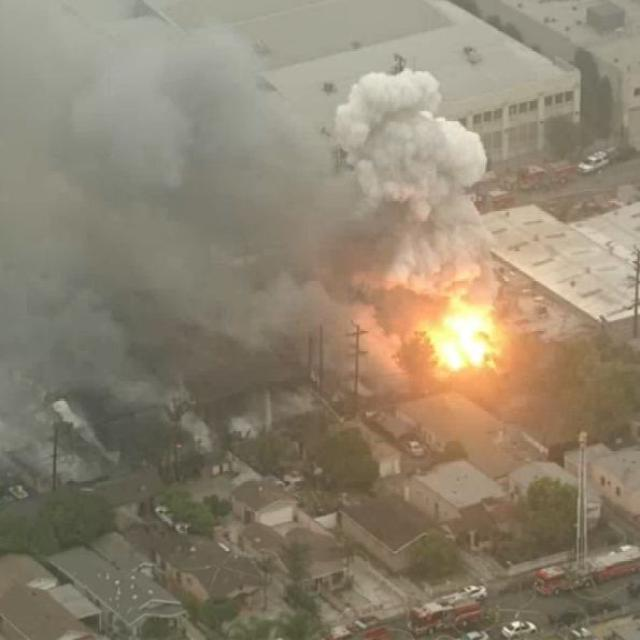Fire: (431, 298, 502, 377)
Smoke: (0, 14, 306, 433), (351, 85, 517, 293)
